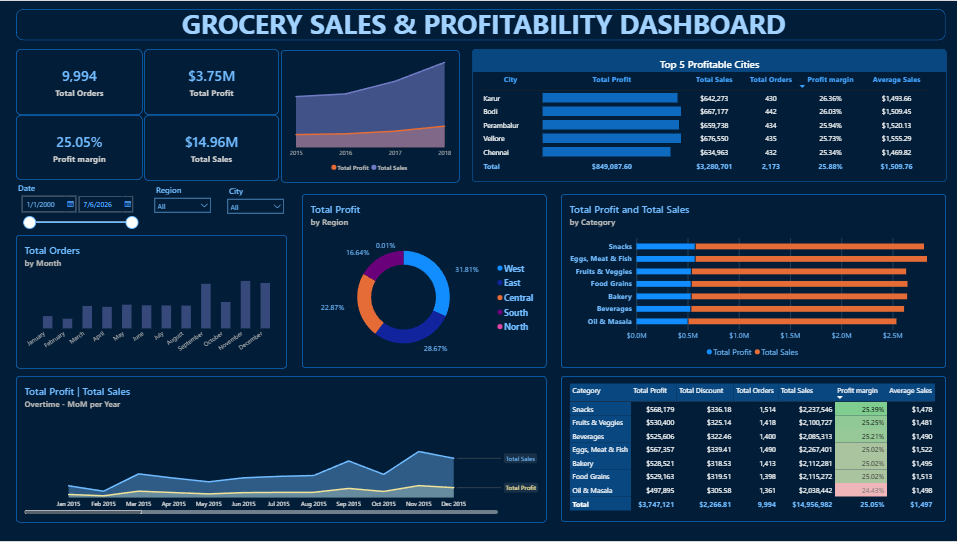

The page's visual inventory and layout, read from the dashboard file:
{"tool":"powerbi","page":{"name":"Executive Overview","canvas":[1920,1080],"ordinal":0},"visuals":[{"type":"card","fields":{"Values":["Analytics.Total Orders"]},"box":[36.7,96.7,253.3,131.7],"z":0},{"type":"card","fields":{"Values":["Analytics.Total Profit"]},"box":[291.7,96.7,270,131.7],"z":1000,"group":"g2"},{"type":"card","fields":{"Values":["Analytics.Total Sales"]},"box":[291.7,228.3,270,131.7],"z":1000,"group":"g1"},{"type":"donutChart","title":"Total Profit","fields":{"Category":["Supermart Grocery Sales.Region"],"Y":["Sum(Supermart Grocery Sales.Profit)"]},"box":[608,386.9,489.1,348.4],"z":1000},{"type":"tableEx","title":"Top 5 Profitable Cities","fields":{"Values":["Supermart Grocery Sales.City","Analytics.Total Profit","Analytics.Total Sales","Analytics.Total Orders","Analytics.Profit margin","Analytics.Average Sales"]},"box":[947.1,95.7,948.6,265.7],"z":2000},{"type":"slicer","title":"Date","fields":{"Values":["Calendar.Date"]},"box":[40,362.9,244.3,104.3],"z":3000},{"type":"slicer","title":"Region","fields":{"Values":["Supermart Grocery Sales.Region"]},"box":[308.4,366.2,122.5,78.8],"z":4000},{"type":"card","fields":{"Values":["Analytics.Profit margin"]},"box":[36.7,228.3,253.3,130],"z":5000},{"type":"barChart","fields":{"Category":["Supermart Grocery Sales.Category"],"Y":["Analytics.Total Profit","Analytics.Total Sales"]},"box":[1125,386.7,770,348.3],"z":6000},{"type":"tableEx","fields":{"Values":["Supermart Grocery Sales.Category","Analytics.Total Profit","Analytics.Total Discount","Analytics.Total Orders","Analytics.Total Sales","Analytics.Profit margin","Analytics.Average Sales"]},"box":[1125,750,770,291.7],"z":7000},{"type":"areaChart","fields":{"Category":["Calendar.Year"],"Y":["Analytics.Total Profit","Analytics.Total Sales"]},"box":[565.6,97.4,357.2,264.9],"z":8000},{"type":"shape","box":[36.4,16.2,1859.4,62.7],"z":10000},{"type":"group","id":"g1","title":"Group 1","box":[291.7,228.3,270,131.7],"z":11000},{"type":"textbox","box":[76.8,8.1,1790.7,78.8],"z":12000},{"type":"group","id":"g2","title":"Group 2","box":[291.7,96.7,270,131.7],"z":13000},{"type":"clusteredColumnChart","fields":{"Category":["Calendar.Month"],"Y":["Analytics.Total Orders"]},"box":[36.4,468.9,541.6,266.8],"z":14000},{"type":"areaChart","title":"Total Profit | Total Sales","fields":{"Category":["Calendar.Month Year"],"Y":["Analytics.Total Profit","Analytics.Total Sales"]},"box":[36.4,749.8,1061.1,293.1],"z":15000},{"type":"slicer","fields":{"Values":["Supermart Grocery Sales.City"]},"box":[455,367.5,122.5,78.8],"z":16000}]}

Visuals, with their boxes in screenshot pixels (x1, y1, x2, y2), scaled from the page's 1920x1080 canvas onto the 957x542 screenshot:
card - Analytics.Total Orders: bbox=[18, 49, 145, 115]
card - Analytics.Total Profit: bbox=[145, 49, 280, 115]
card - Analytics.Total Sales: bbox=[145, 115, 280, 181]
"Total Profit" donutChart: bbox=[303, 194, 547, 369]
"Top 5 Profitable Cities" tableEx: bbox=[472, 48, 945, 181]
"Date" slicer: bbox=[20, 182, 142, 234]
"Region" slicer: bbox=[154, 184, 215, 223]
card - Analytics.Profit margin: bbox=[18, 115, 145, 180]
barChart - Supermart Grocery Sales.Category x Analytics.Total Profit: bbox=[561, 194, 945, 369]
tableEx - Supermart Grocery Sales.Category x Analytics.Total Profit: bbox=[561, 376, 945, 523]
areaChart - Calendar.Year x Analytics.Total Profit: bbox=[282, 49, 460, 182]
shape: bbox=[18, 8, 945, 40]
"Group 1" group: bbox=[145, 115, 280, 181]
textbox: bbox=[38, 4, 931, 44]
"Group 2" group: bbox=[145, 49, 280, 115]
clusteredColumnChart - Calendar.Month x Analytics.Total Orders: bbox=[18, 235, 288, 369]
"Total Profit | Total Sales" areaChart: bbox=[18, 376, 547, 523]
slicer - Supermart Grocery Sales.City: bbox=[227, 184, 288, 224]
